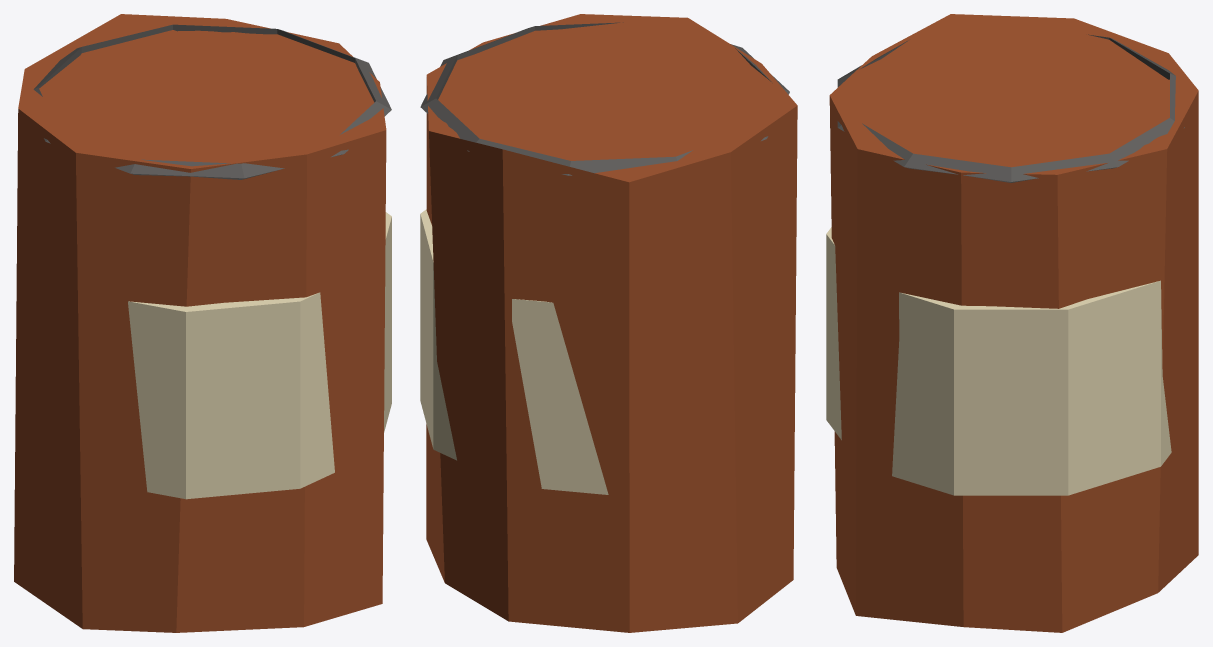
The model's file is RustyTinCan.fbx.
The picture shows the model from 3 angles, left to right: view 1: azimuth 30°, elevation 25°; view 2: azimuth 150°, elevation 25°; view 3: azimuth 270°, elevation 25°; orthographic projection.
Visible parts, largest first — view 1: RustyTinCan; view 2: RustyTinCan; view 3: RustyTinCan.
Boxes of the visible parts, left/top/right/bottom form: RustyTinCan: left=14, top=14, right=391, bottom=632; RustyTinCan: left=420, top=14, right=797, bottom=632; RustyTinCan: left=826, top=14, right=1198, bottom=632.
Size of the model in its own units: 0.7 by 1 by 0.7.
